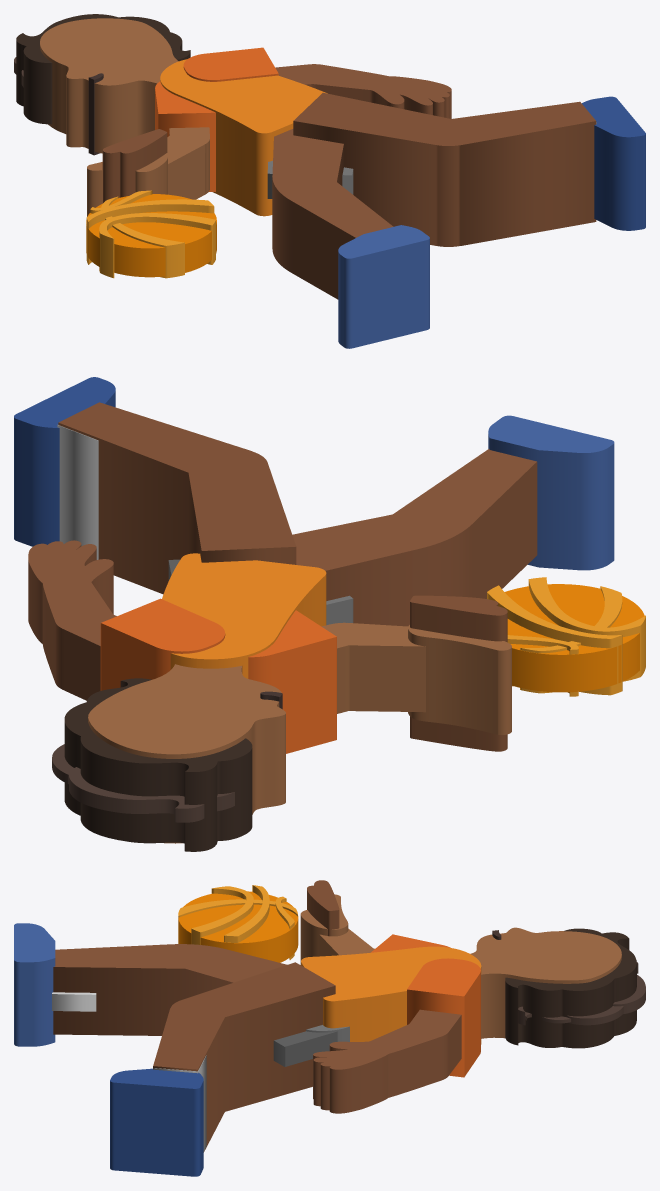
Rendered from emoji_u26f9_1f3fe.glb.
3 views of the same model, one above another, from view 1: azimuth 30°, elevation 25°; view 2: azimuth 150°, elevation 25°; view 3: azimuth 270°, elevation 25° (orthographic). The views are drawn at different scales.
Parts seen in each view (by area): view 1: emoji_u26f9_1f3fe; view 2: emoji_u26f9_1f3fe; view 3: emoji_u26f9_1f3fe.
Boxes of the visible parts, bbox=[...] form: emoji_u26f9_1f3fe: bbox=[14, 14, 645, 348]; emoji_u26f9_1f3fe: bbox=[14, 377, 645, 851]; emoji_u26f9_1f3fe: bbox=[14, 880, 645, 1176].
Bounding box in the file's own units: 0.029 × 0.0058 × 0.0339.
